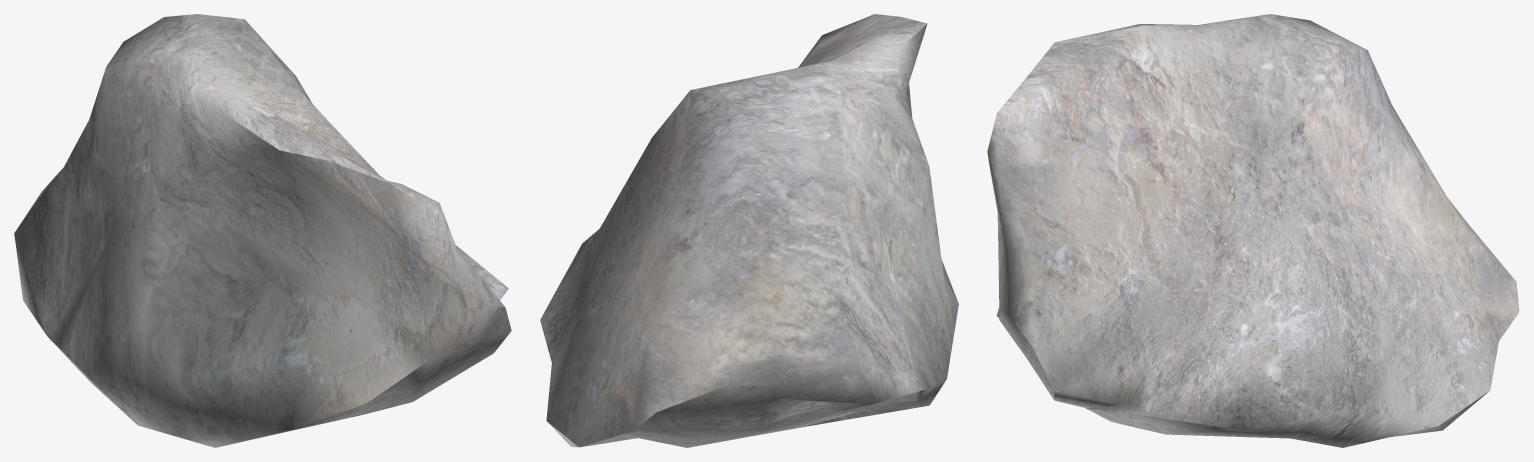
The model's file is rock_00D_lp2_2k.fbx.
3 views of the same model, side by side, from view 1: azimuth 30°, elevation 25°; view 2: azimuth 150°, elevation 25°; view 3: azimuth 270°, elevation 25° (orthographic).
Parts seen in each view (by area): view 1: rock_00D_lp2_2k; view 2: rock_00D_lp2_2k; view 3: rock_00D_lp2_2k.
Part boxes in pixels (<box>): rock_00D_lp2_2k: <box>14,14,511,447</box>; rock_00D_lp2_2k: <box>540,14,958,447</box>; rock_00D_lp2_2k: <box>987,14,1519,447</box>.
Bounding box in the file's own units: 157 × 141 × 187.
